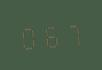seven: (61, 19, 81, 47)
six: (40, 20, 60, 49)
zero: (18, 22, 38, 50)
